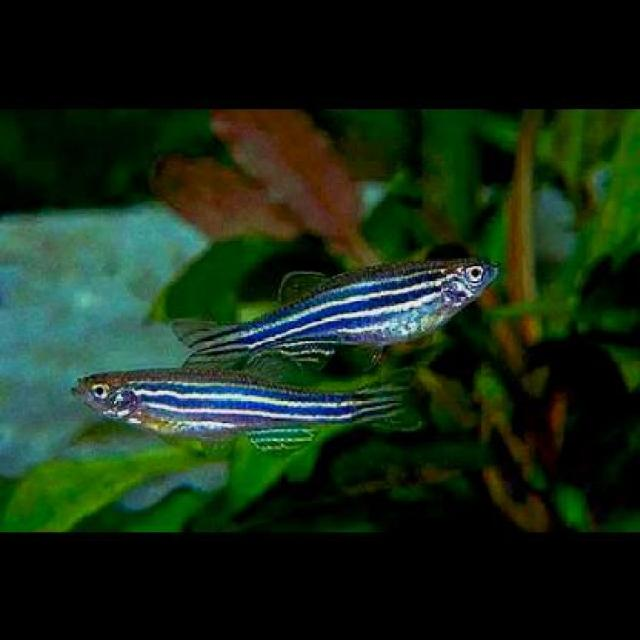ZebraFish: (173, 252, 502, 366), (72, 367, 420, 451)
